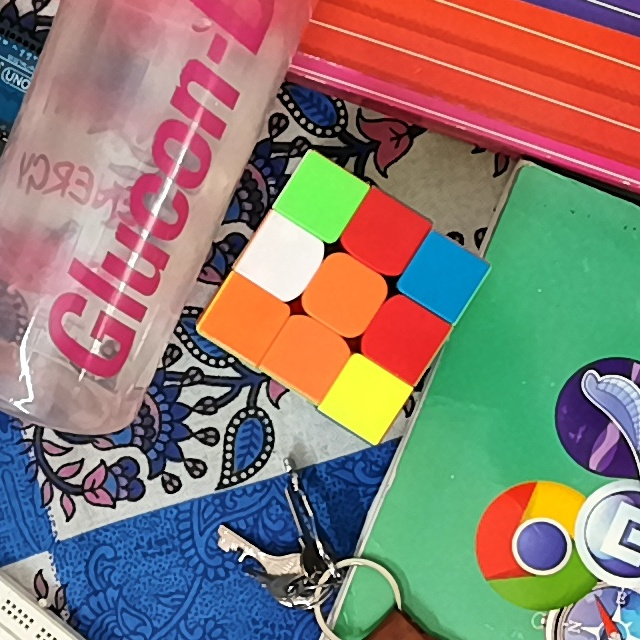tile: (256, 234, 305, 284), (294, 175, 344, 223), (379, 313, 429, 361), (360, 209, 409, 257), (418, 253, 470, 298), (321, 270, 370, 317), (222, 295, 267, 344), (342, 375, 388, 421), (284, 334, 331, 379)
